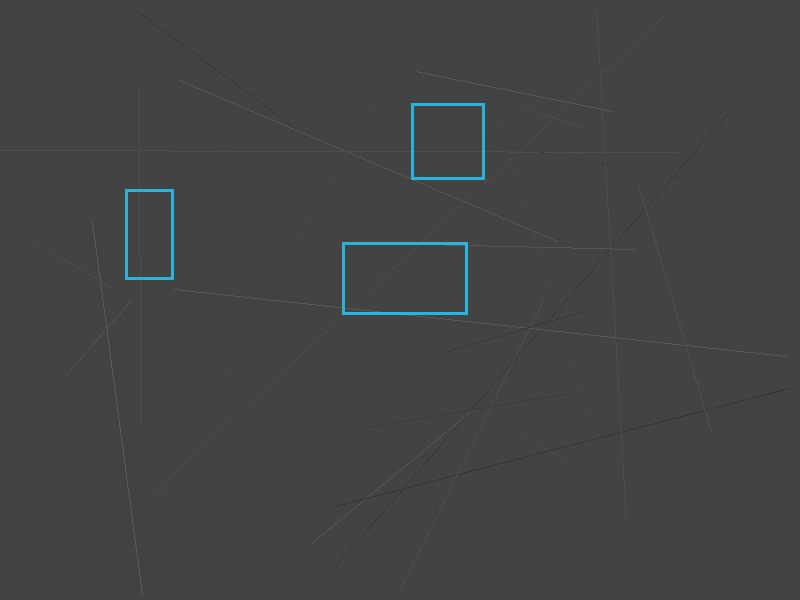D10: (342, 242, 467, 314), (411, 103, 484, 179), (125, 189, 173, 279)
